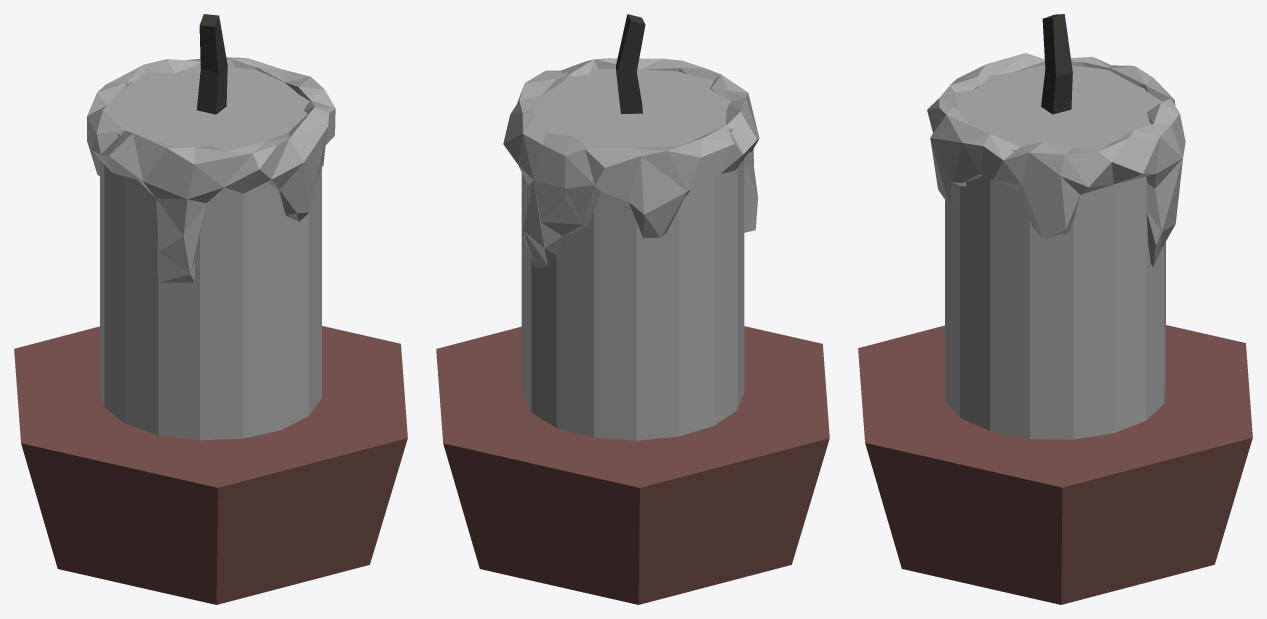
The model's file is LightRoseWoodDecorationLargeCandle1.fbx.
The picture shows the model from 3 angles, left to right: view 1: azimuth 30°, elevation 25°; view 2: azimuth 150°, elevation 25°; view 3: azimuth 270°, elevation 25°; orthographic projection.
Parts seen in each view (by area): view 1: LightRoseWoodDecorationLargeCandle1; view 2: LightRoseWoodDecorationLargeCandle1; view 3: LightRoseWoodDecorationLargeCandle1.
Part boxes in pixels (x1,y1,x2,y2): LightRoseWoodDecorationLargeCandle1: [14, 14, 407, 604]; LightRoseWoodDecorationLargeCandle1: [436, 14, 829, 604]; LightRoseWoodDecorationLargeCandle1: [858, 14, 1252, 604].
Size of the model in its own units: 395 by 500 by 349.
